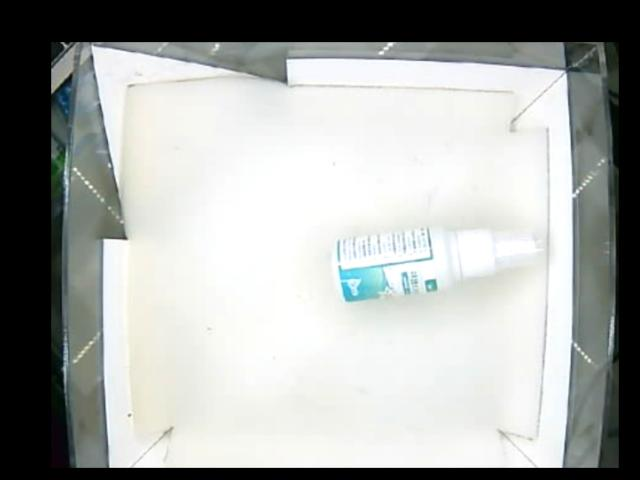Bottle: (335, 227, 540, 303)
